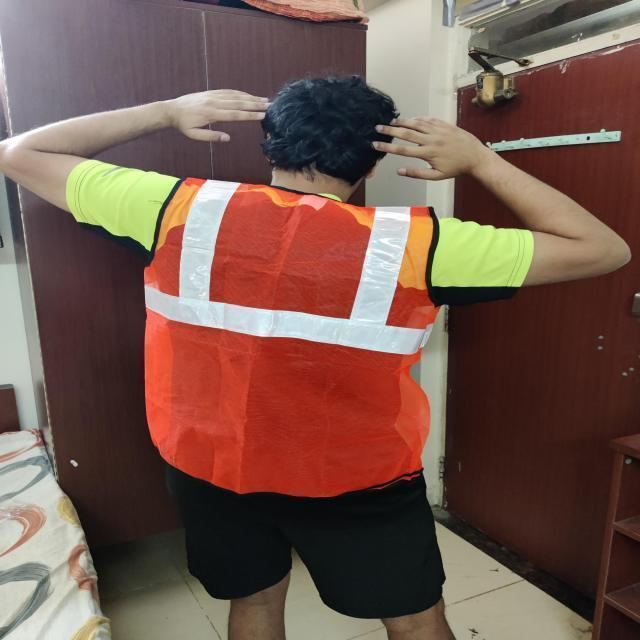no-helmet: (256, 74, 401, 192)
vest: (137, 174, 439, 506)
